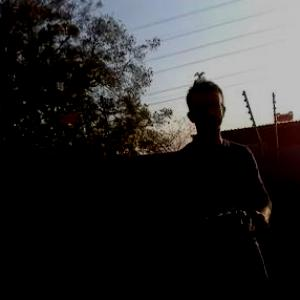follow: (163, 69, 282, 299)
